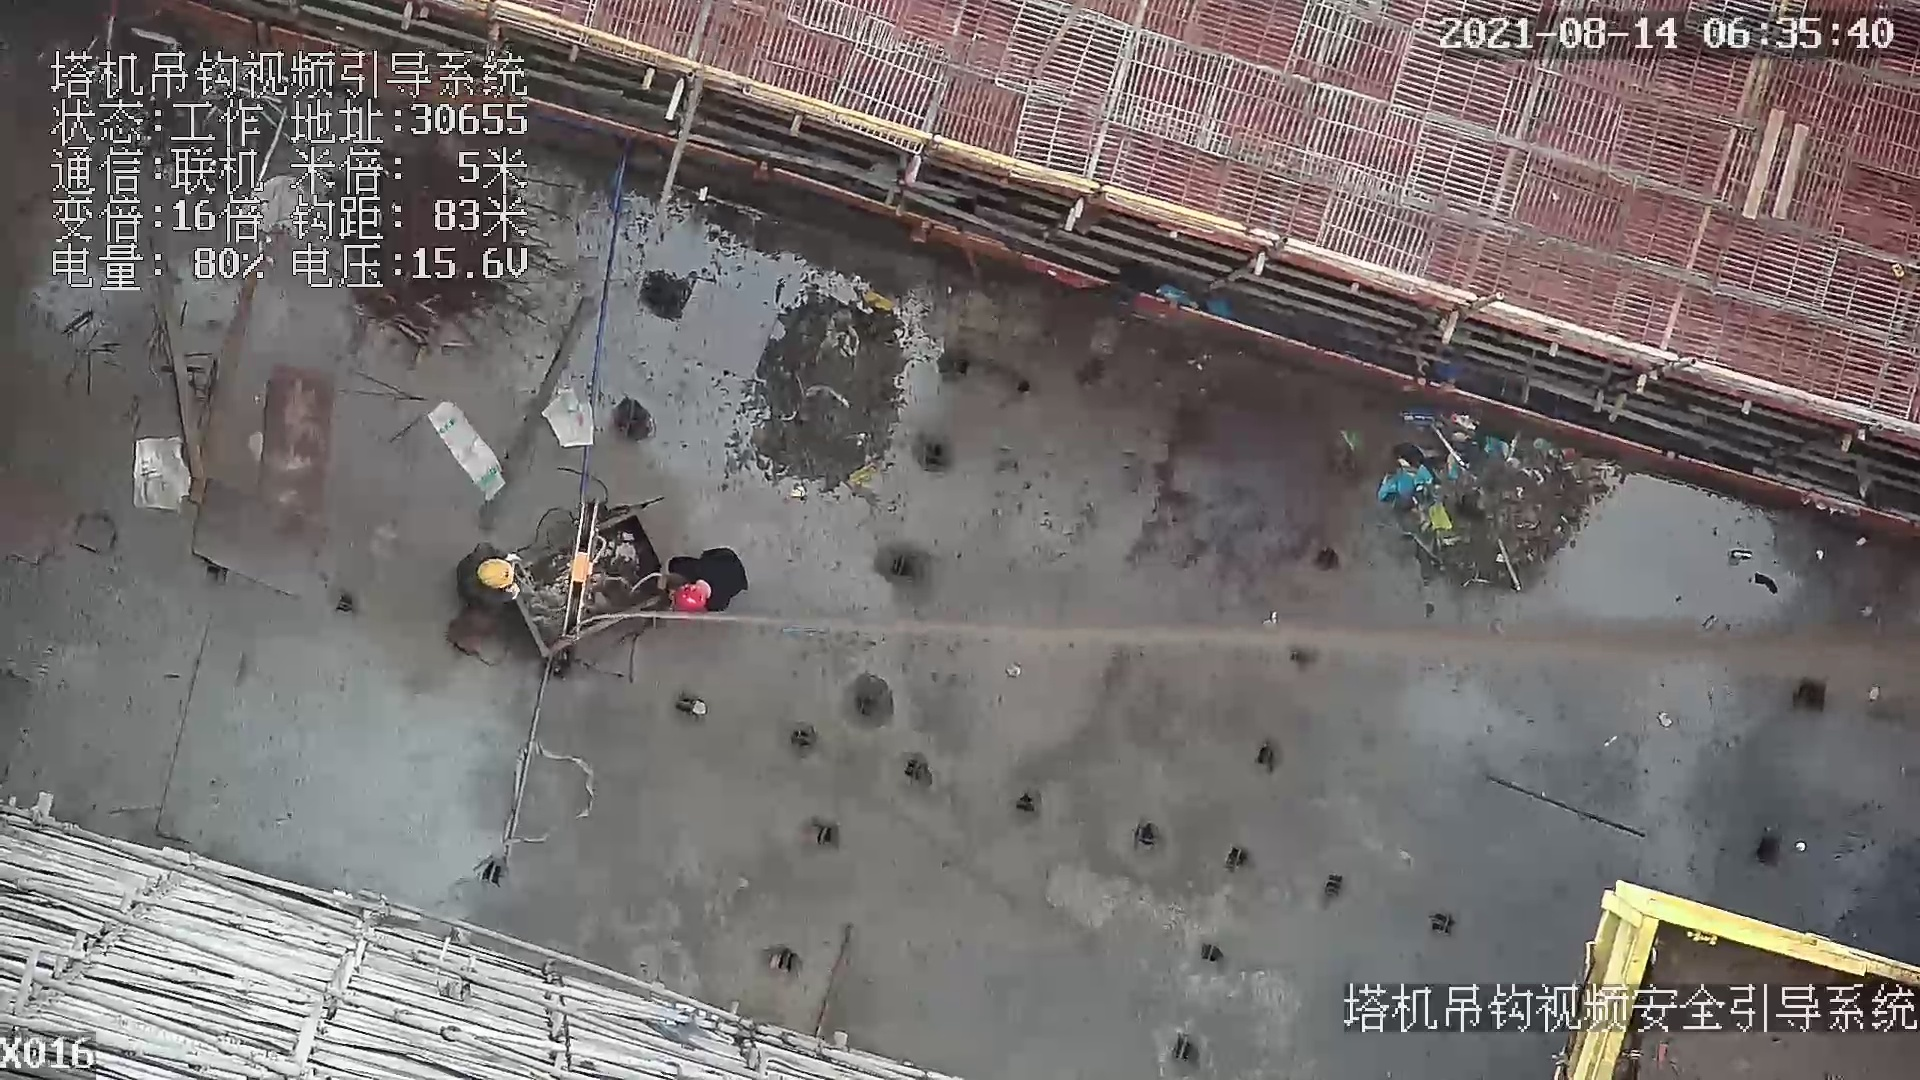helmet: (477, 559, 519, 595), (674, 583, 715, 615)
hook: (559, 496, 603, 640)
hopper: (541, 478, 668, 710)
person: (662, 547, 751, 622), (446, 537, 529, 609)
